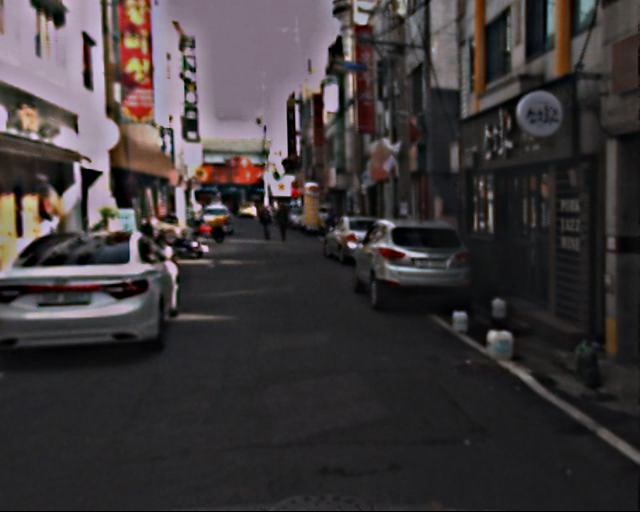person: (274, 197, 293, 243), (259, 199, 275, 238)
